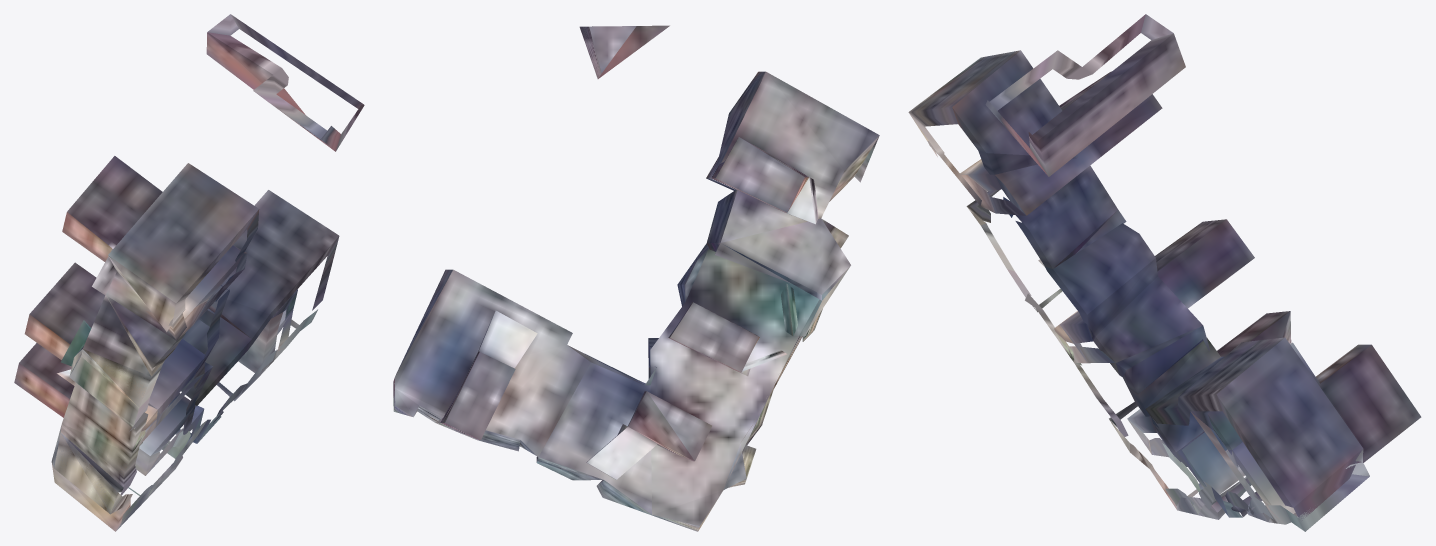
The picture shows the model from 3 angles, left to right: view 1: azimuth 30°, elevation 25°; view 2: azimuth 150°, elevation 25°; view 3: azimuth 270°, elevation 25°; orthographic projection. The views are drawn at different scales.
Bounding box in the file's own units: 41.82 × 54.88 × 47.46.
Materials: 1 (1 with a texture image).
